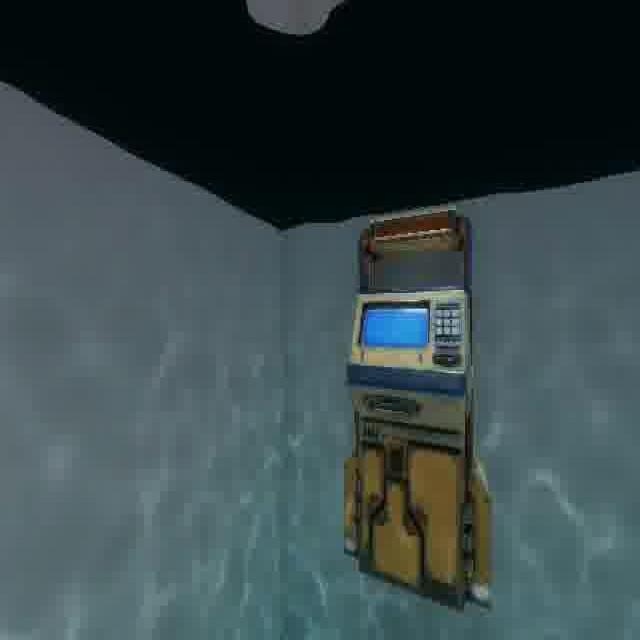Control Panel: (329, 198, 517, 626)
